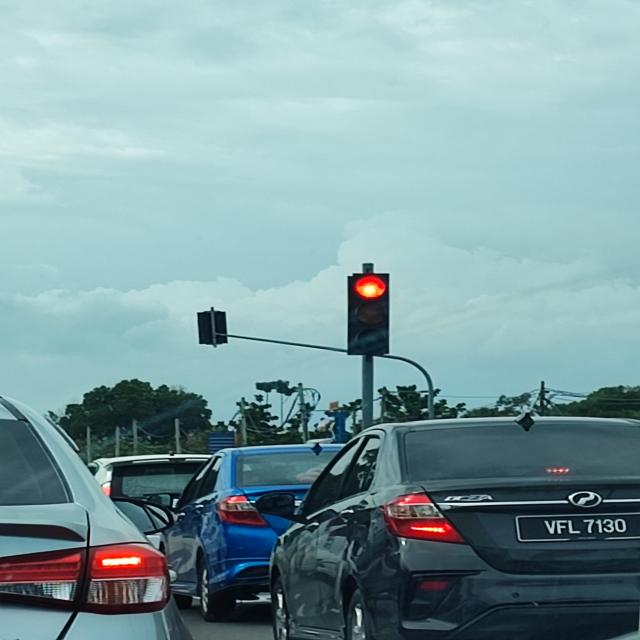car: (259, 413, 640, 640), (0, 376, 211, 640), (159, 442, 347, 623)
traffic light: (347, 273, 390, 357), (197, 310, 228, 348)
